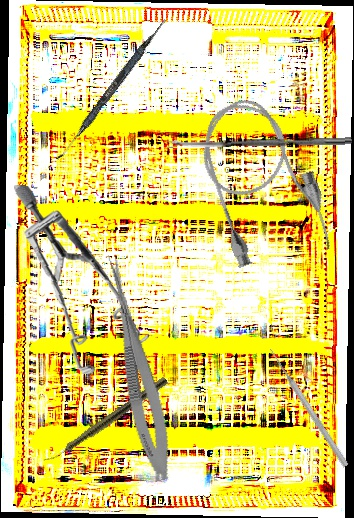Cannula: (184, 84, 341, 281)
Handpiece: (42, 374, 169, 469)
Micro Scissor: (92, 251, 181, 484)
Pusher: (266, 346, 351, 469)
Spatula Surgical: (55, 15, 168, 165)
Speculum: (1, 184, 159, 379)
Surgical Spoon: (166, 136, 353, 148)
